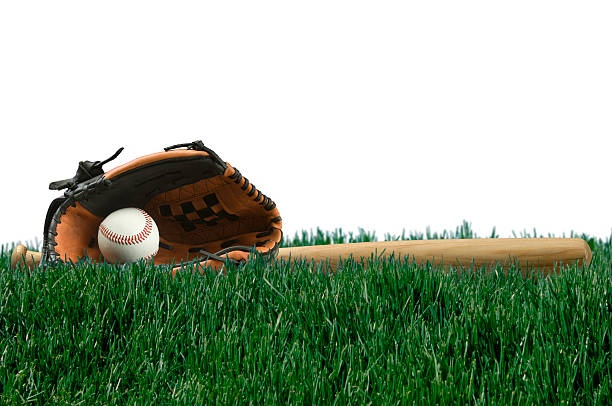bita: (206, 239, 592, 271)
